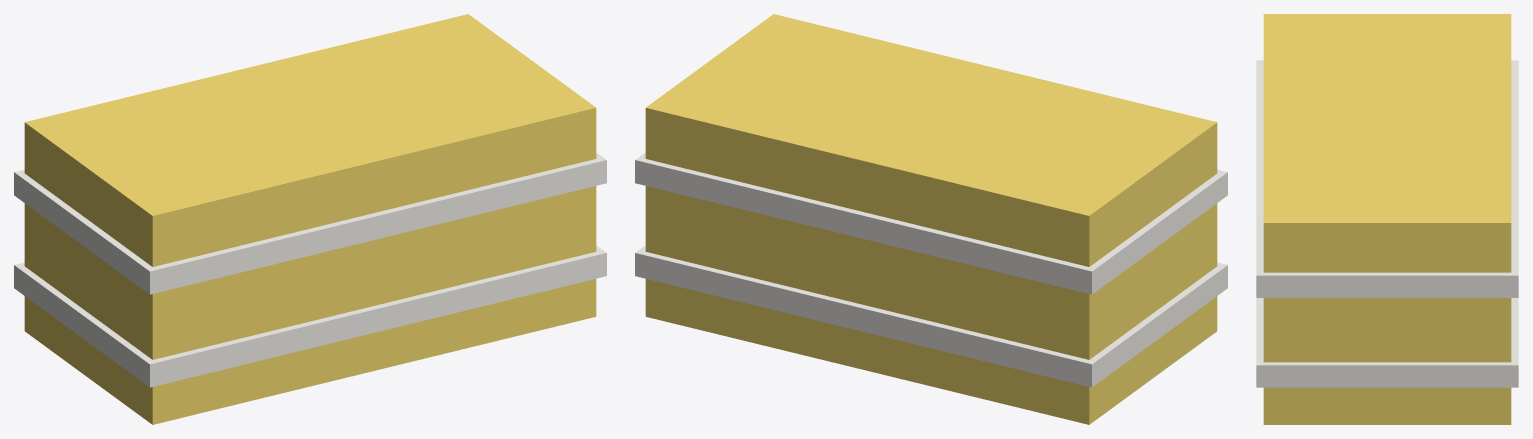
File: travelling-circus-and-big-top-hay-bale-1321dfa8__36274.glb
3 views of the same model, side by side, from view 1: azimuth 30°, elevation 25°; view 2: azimuth 150°, elevation 25°; view 3: azimuth 270°, elevation 25° (orthographic). The views are drawn at different scales.
Parts seen in each view (by area): view 1: hay-bale-gold, hay-bale-canvas; view 2: hay-bale-gold, hay-bale-canvas; view 3: hay-bale-gold, hay-bale-canvas.
Part boxes in pixels (bbox=[...]): hay-bale-gold: bbox=[24, 14, 596, 424]; hay-bale-canvas: bbox=[14, 152, 606, 387]; hay-bale-gold: bbox=[645, 14, 1217, 424]; hay-bale-canvas: bbox=[635, 152, 1227, 387]; hay-bale-gold: bbox=[1263, 14, 1511, 424]; hay-bale-canvas: bbox=[1256, 60, 1518, 387].
Bounding box in the file's own units: 1.03 × 0.45 × 0.53.
